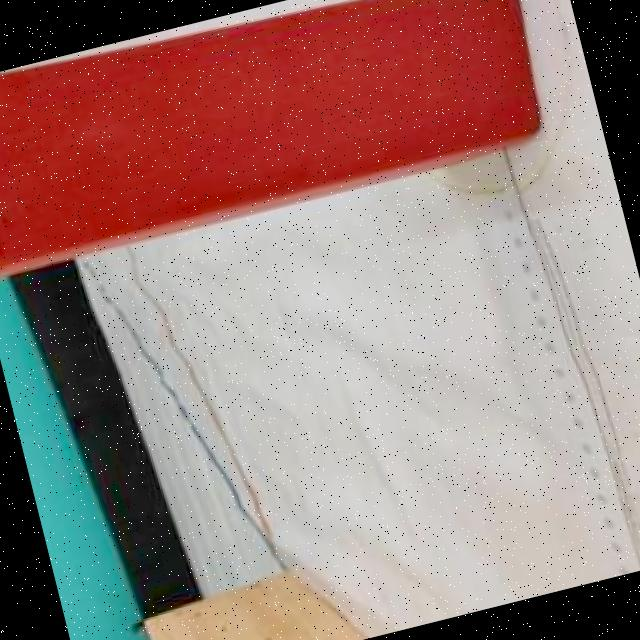redbox: (0, 0, 559, 283)
